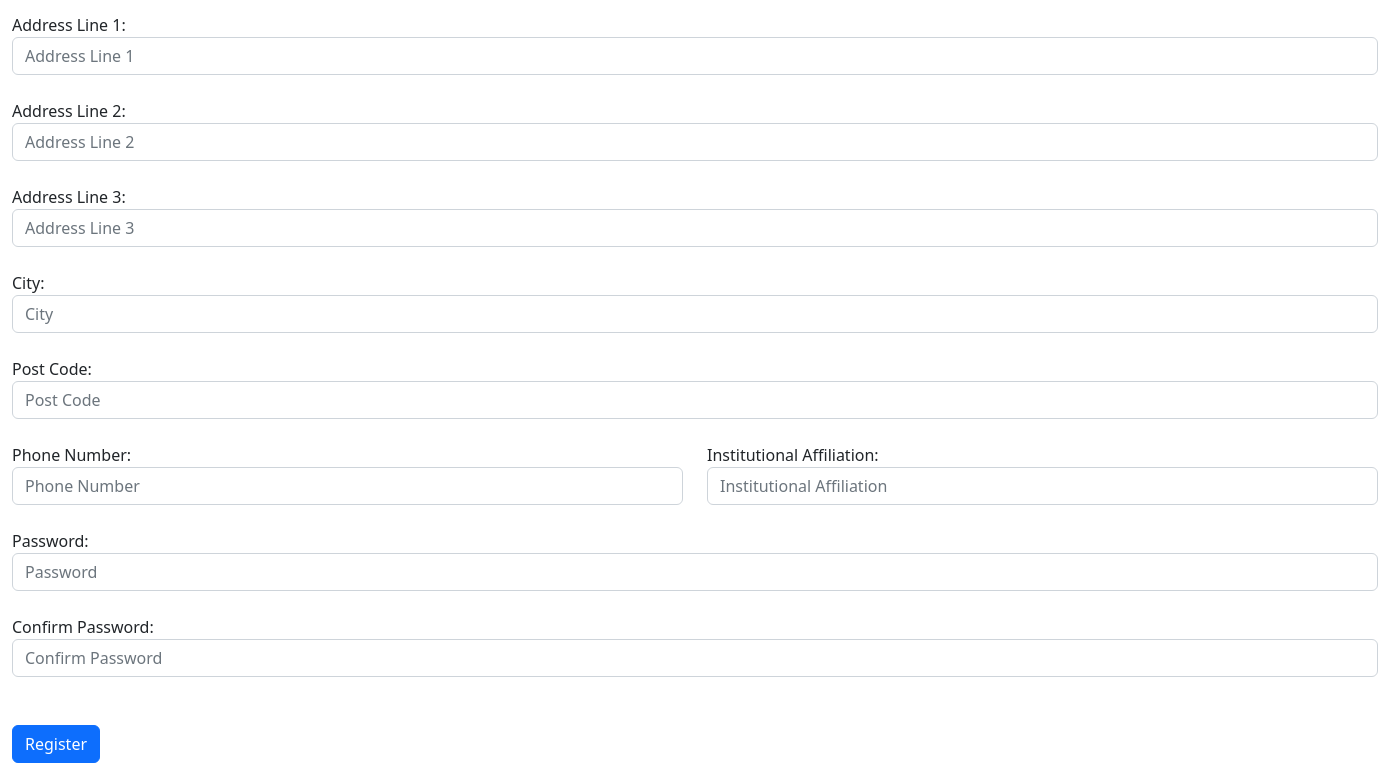
Test case: registerPage › Makes sure that if password and confirm password are not the same an error appears
(page scrolled)
Type "passwordnone" into the password field named "password" at [695, 572], box 12,553 -> 1378,591
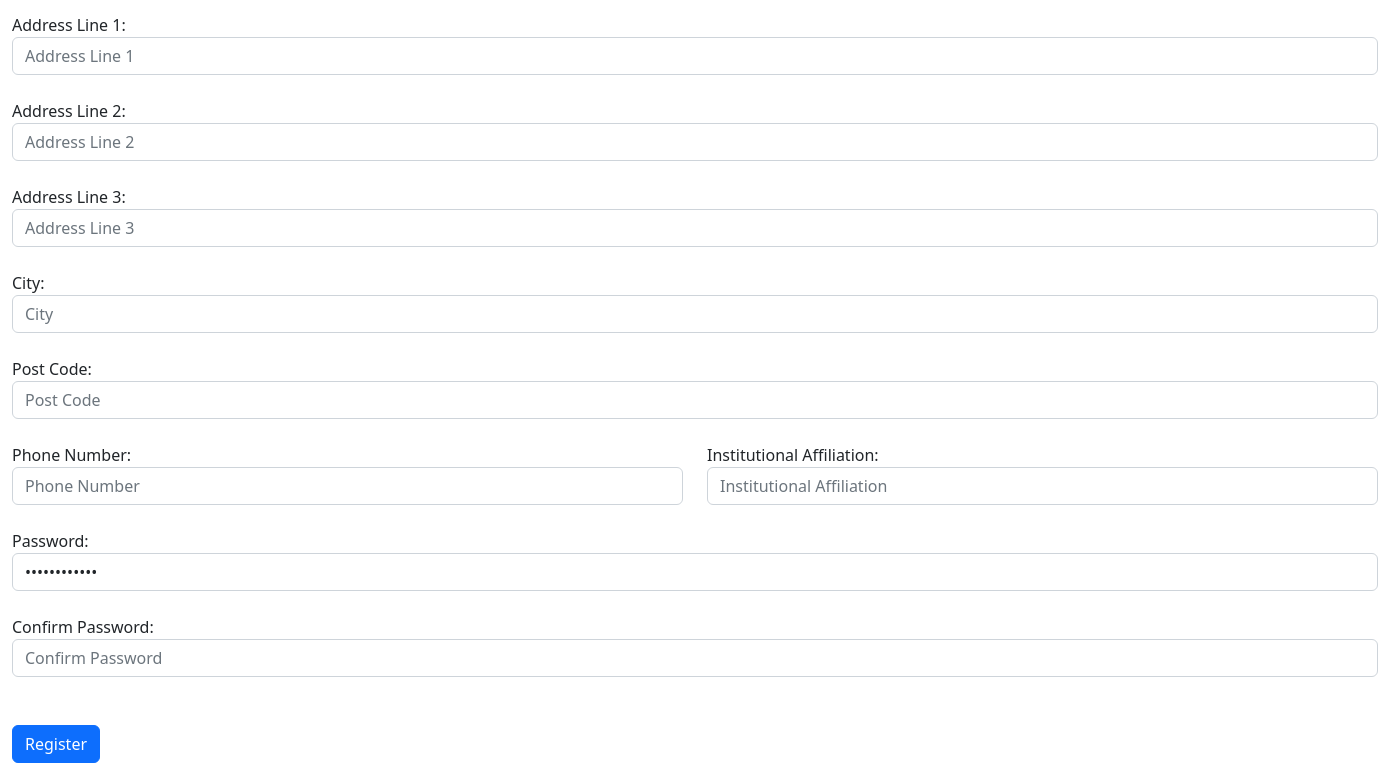
Type "notthesame" into the password field named "confirmPassword" at [695, 658], box 12,639 -> 1378,677
(page scrolled)
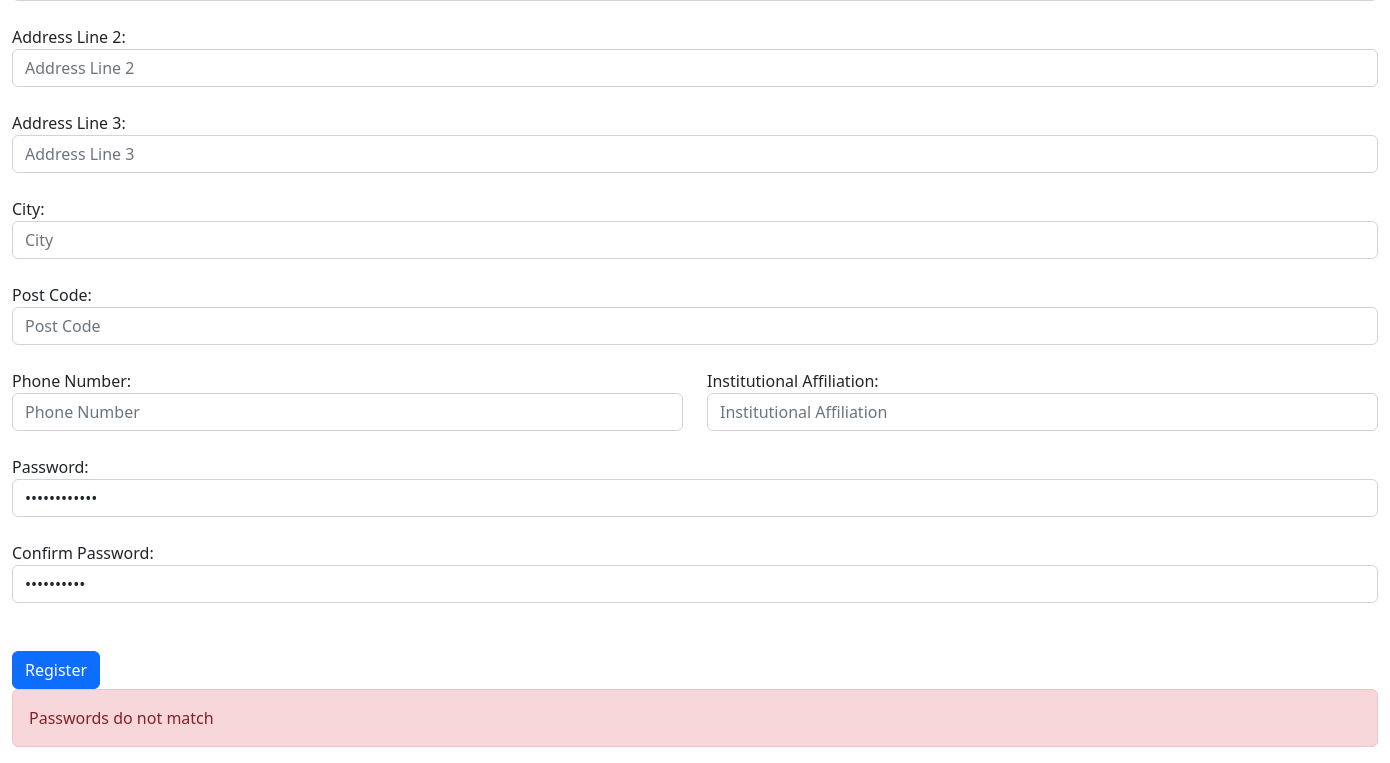
Expected: the message named "regError" is shown, 12,689 -> 1378,747
